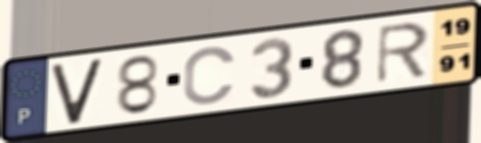3: (247, 34, 297, 102)
8: (319, 28, 367, 92), (113, 53, 160, 116)
C: (180, 44, 239, 107)
R: (374, 20, 432, 86)
V: (48, 55, 106, 127)
